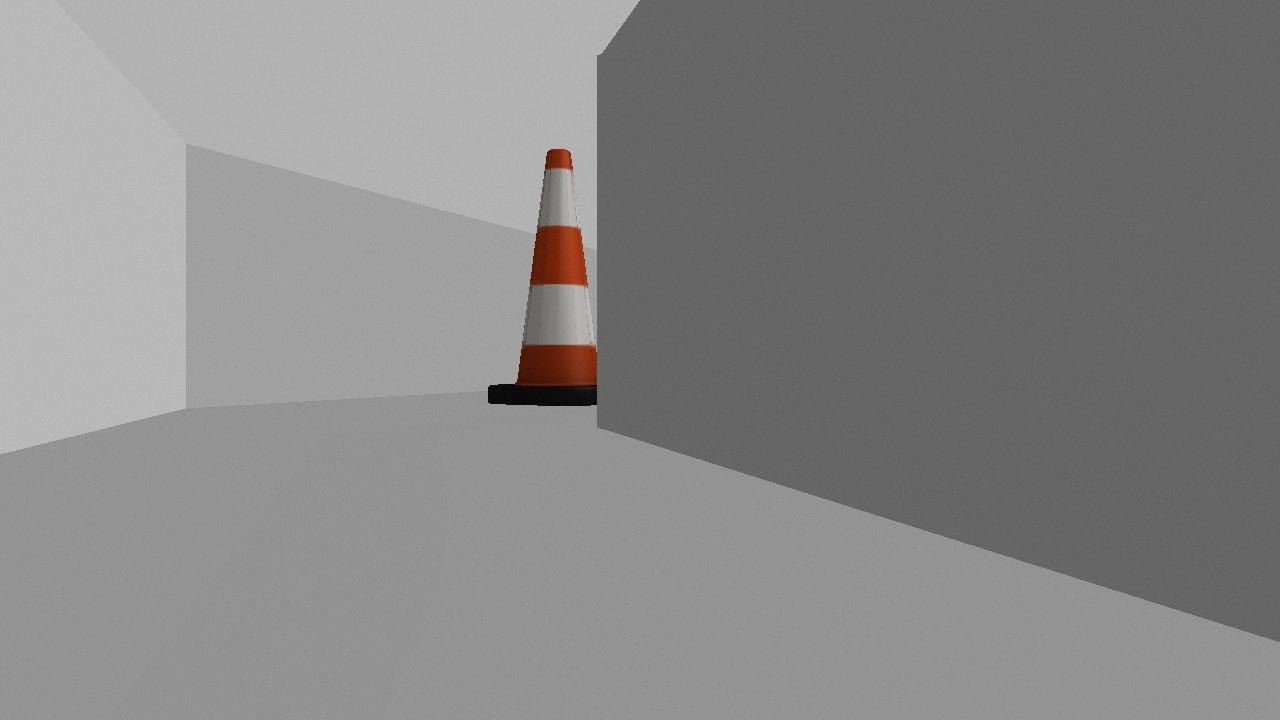cone_barrel: (486, 147, 633, 406)
